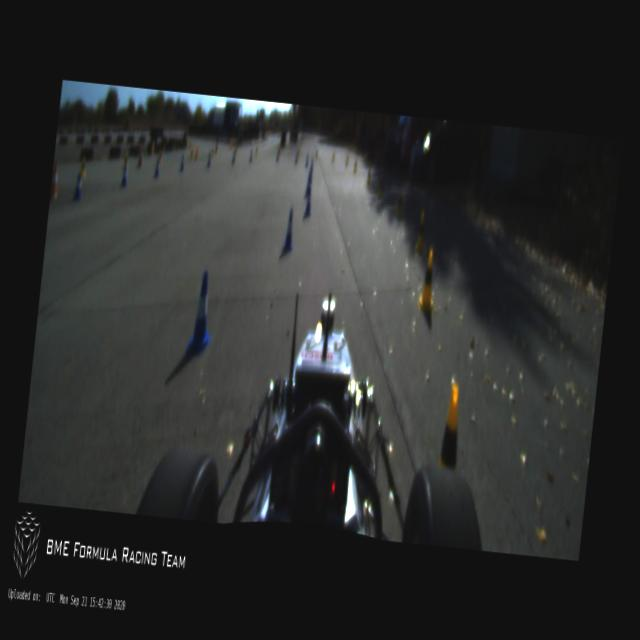blue_cone: (184, 270, 218, 360), (282, 207, 296, 250), (74, 172, 84, 200), (304, 186, 313, 216), (305, 170, 312, 198), (120, 164, 128, 188), (179, 154, 185, 170), (206, 152, 211, 168), (230, 151, 236, 164), (154, 161, 159, 176), (304, 153, 309, 166), (310, 157, 314, 172), (294, 151, 298, 164), (249, 150, 253, 162), (276, 150, 278, 160)
large_orange_cone: (49, 162, 60, 200), (137, 144, 144, 166)
unknown_cone: (150, 141, 154, 157), (189, 147, 193, 159), (194, 146, 198, 158)
yellow_cone: (438, 384, 463, 469), (418, 248, 438, 312), (414, 211, 426, 252), (395, 189, 404, 217), (376, 174, 384, 199), (80, 158, 87, 176), (366, 166, 372, 185), (122, 152, 128, 168), (157, 150, 162, 163), (353, 160, 357, 172), (345, 155, 348, 166), (315, 149, 318, 158), (255, 146, 258, 154), (332, 152, 334, 162)
